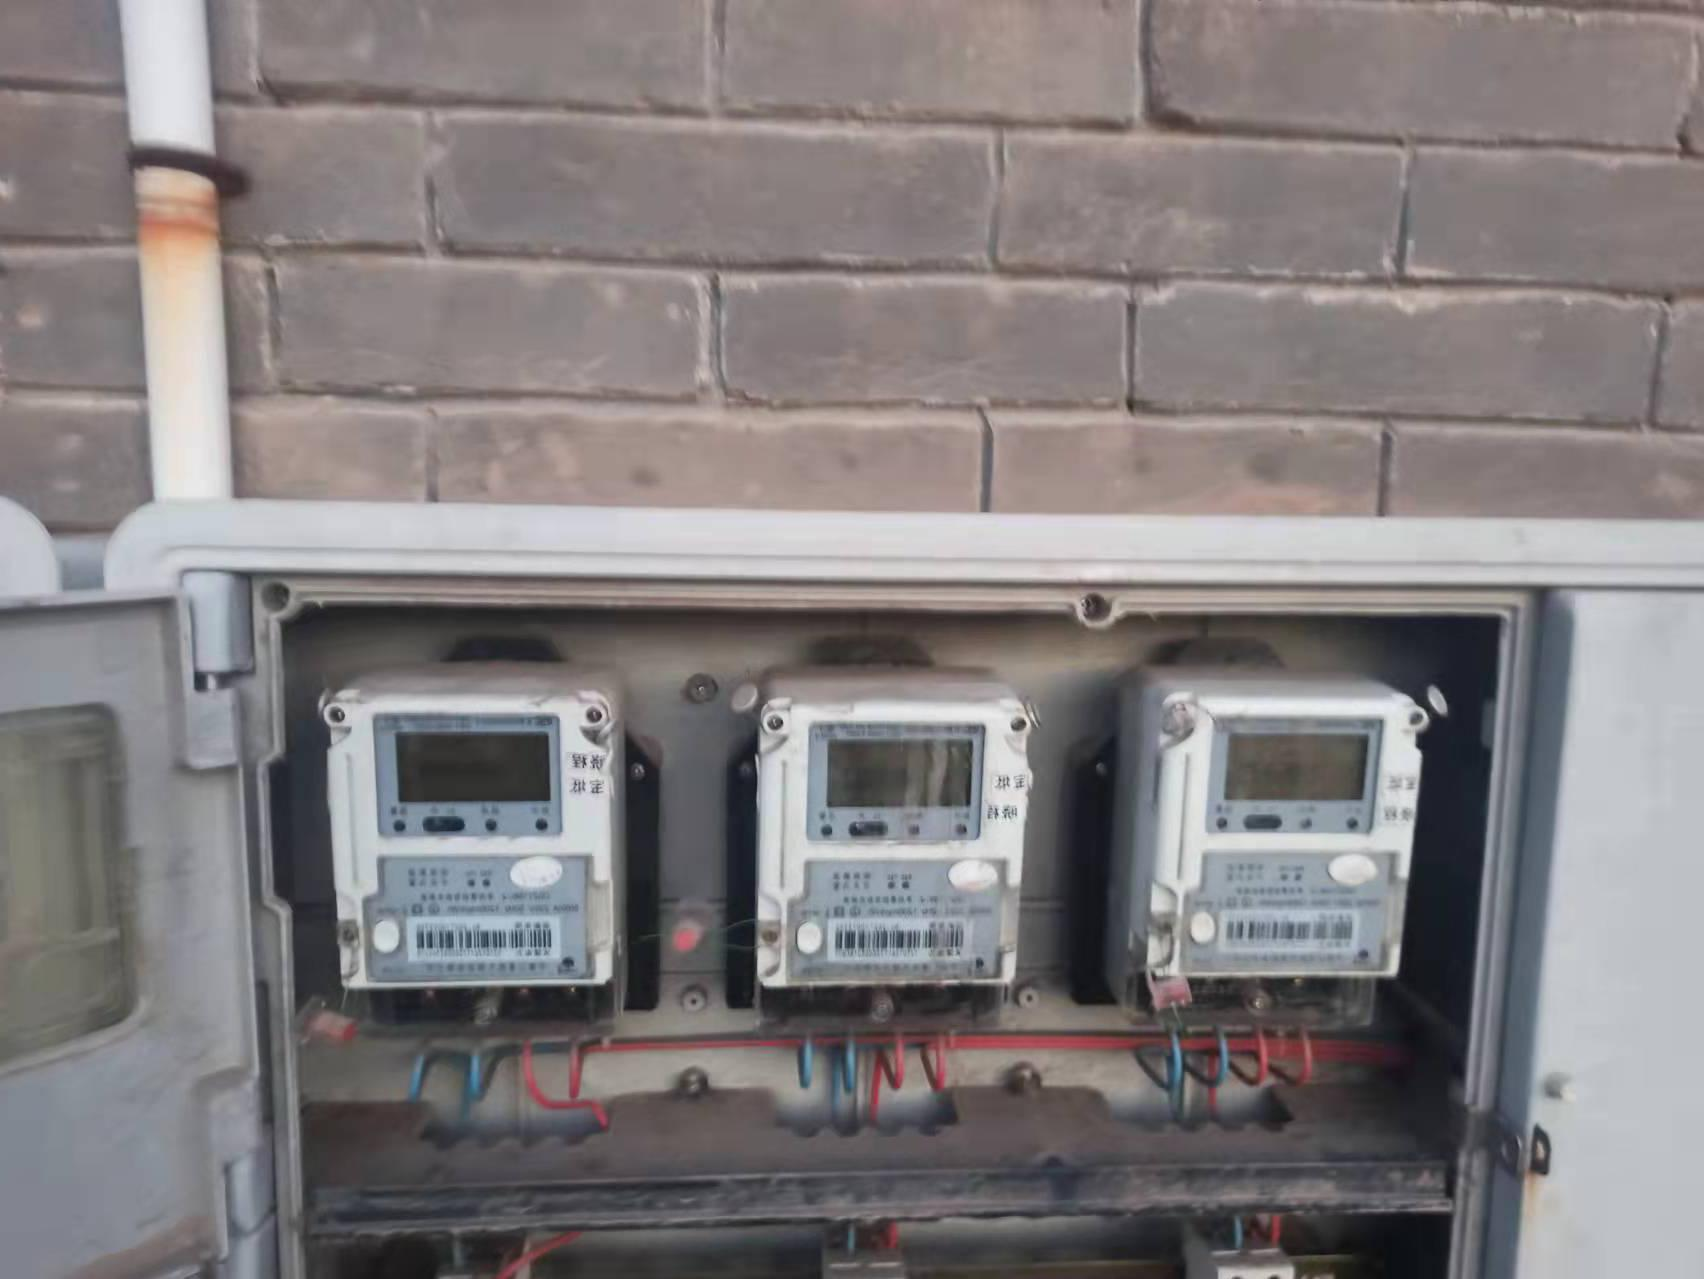digital: (329, 695, 610, 987), (1147, 691, 1421, 979), (759, 700, 1023, 983)
